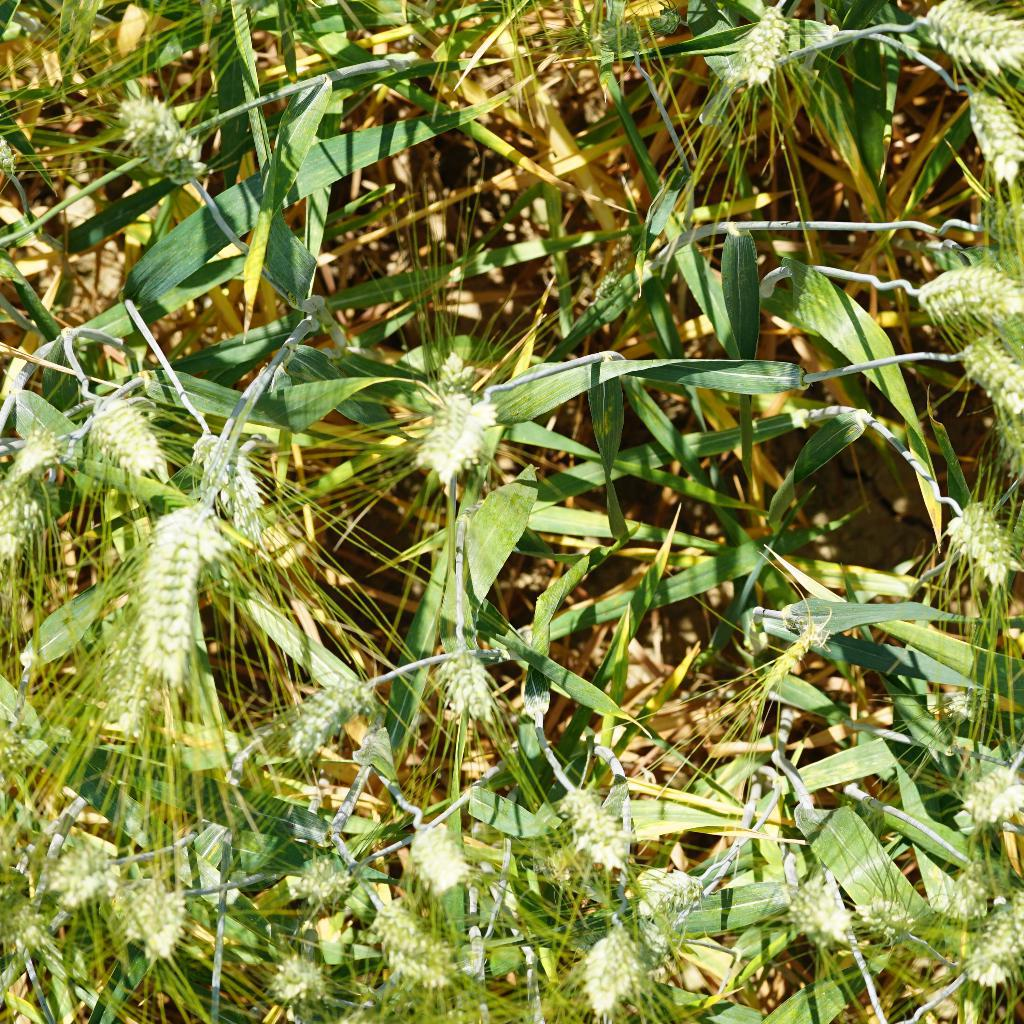0-0: (139, 499, 231, 699), (103, 580, 178, 750), (108, 79, 212, 199), (190, 422, 273, 556), (82, 382, 178, 484), (279, 658, 376, 754), (937, 490, 1024, 594), (908, 0, 1024, 75), (927, 335, 1024, 421), (903, 261, 1024, 329), (555, 772, 635, 873), (575, 920, 651, 1024), (358, 909, 455, 990), (407, 400, 503, 479), (961, 873, 1024, 993), (626, 854, 712, 935), (392, 804, 470, 893), (111, 871, 194, 952), (957, 85, 1024, 185), (0, 481, 59, 590), (777, 871, 856, 950), (433, 630, 501, 721), (36, 834, 109, 915), (721, 0, 791, 82), (956, 746, 1024, 828), (4, 423, 63, 499), (288, 851, 363, 908), (929, 856, 990, 926), (856, 882, 918, 950), (941, 673, 1006, 733), (413, 344, 485, 396), (264, 949, 325, 1004), (978, 187, 1024, 253), (6, 892, 52, 957), (591, 10, 645, 62), (591, 258, 629, 309), (638, 0, 685, 40)
